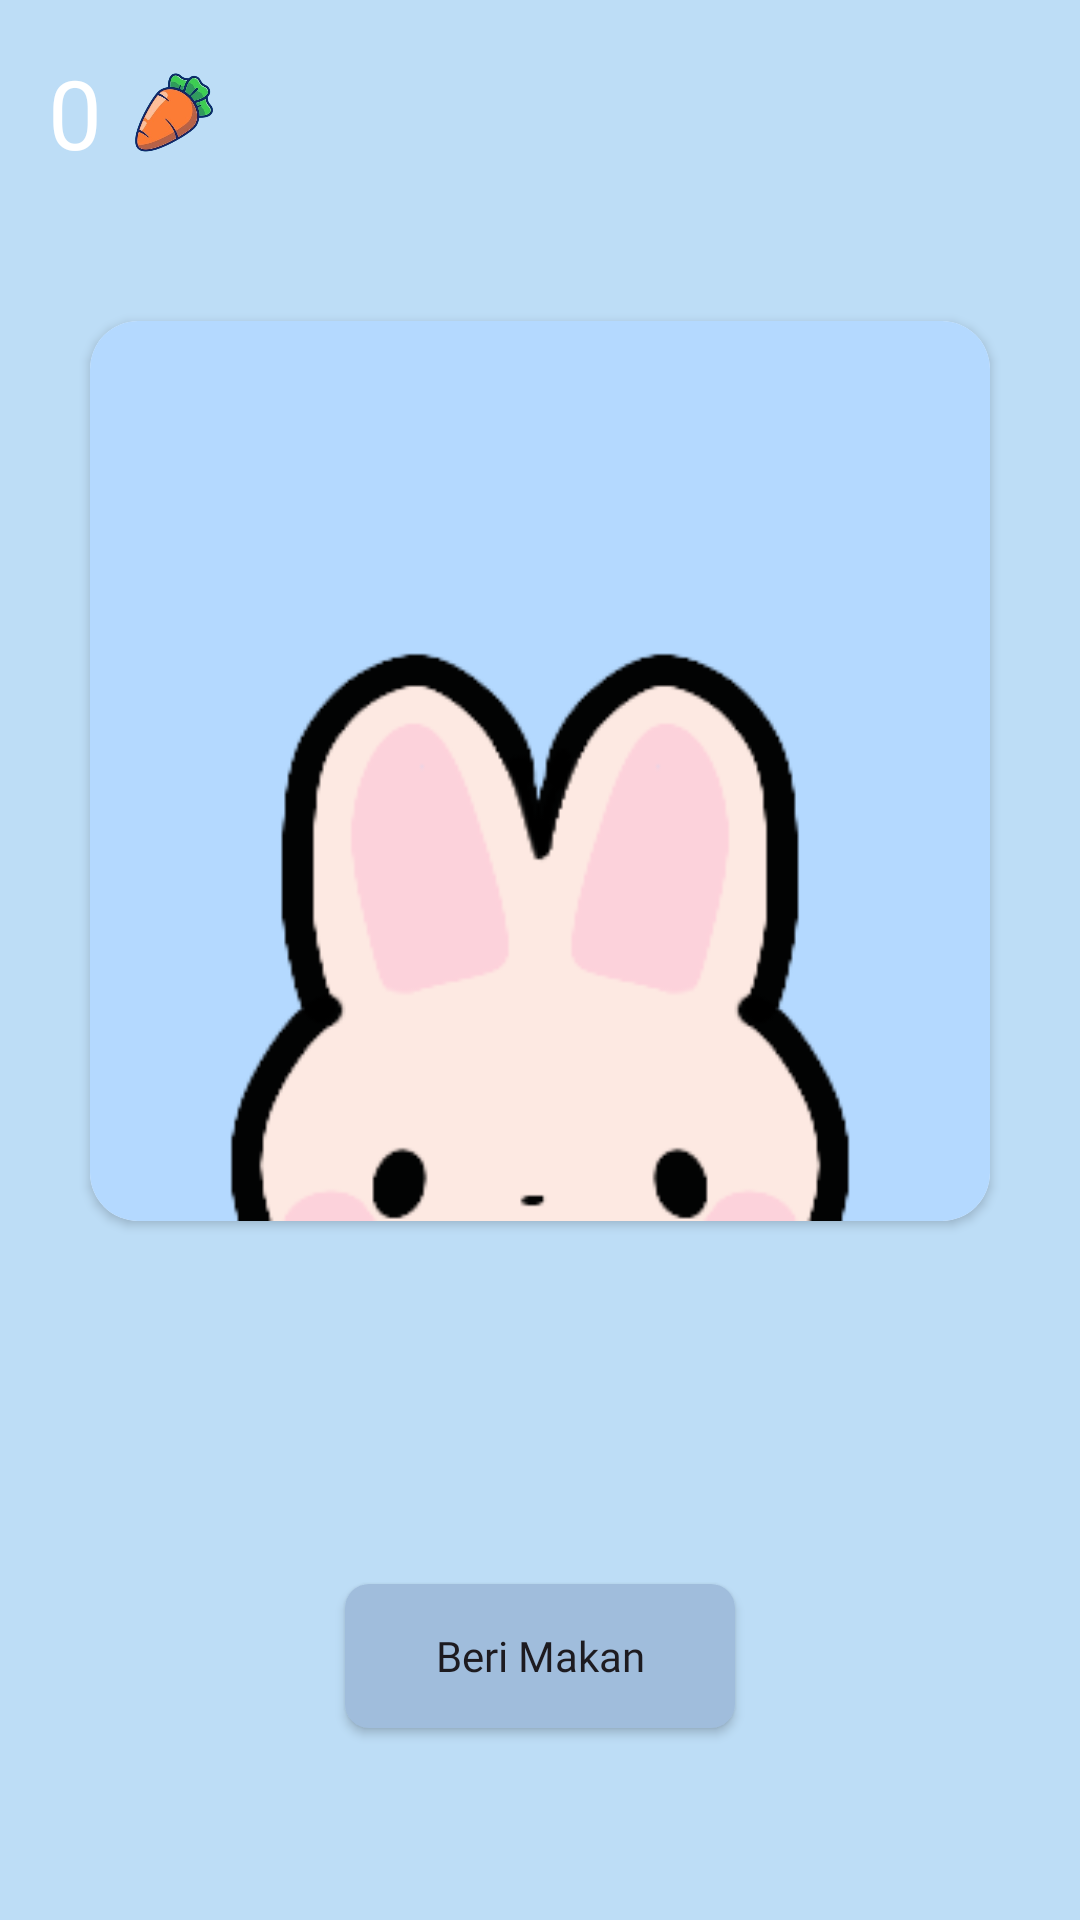

Point at icon controls on the screen. Image size 1080*1920, points as (x,y).
carrot: (174,112)
